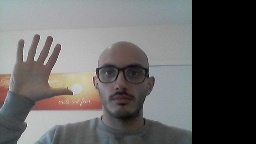Mano_aperta: (6, 31, 74, 103)
